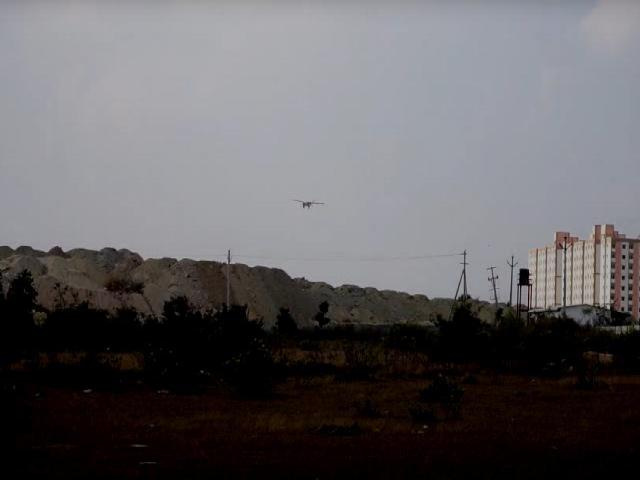iha: (294, 198, 325, 208)
